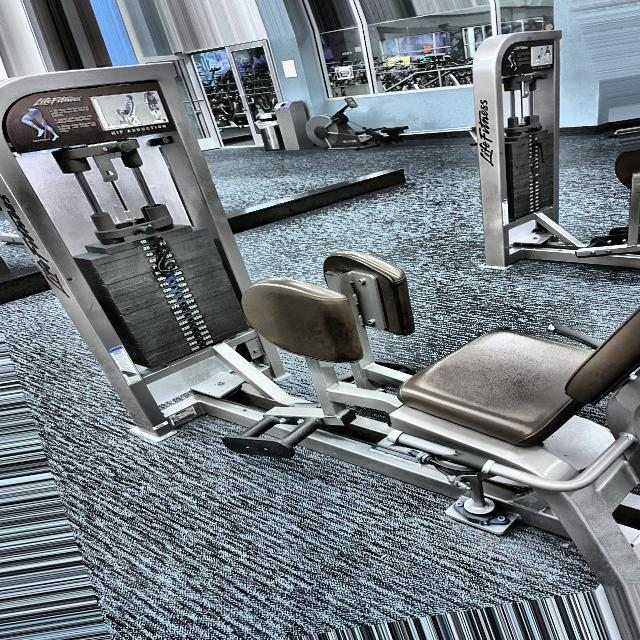hip_adduction_machine: (249, 235, 640, 566), (229, 238, 466, 506), (22, 88, 160, 151), (106, 121, 168, 140)
